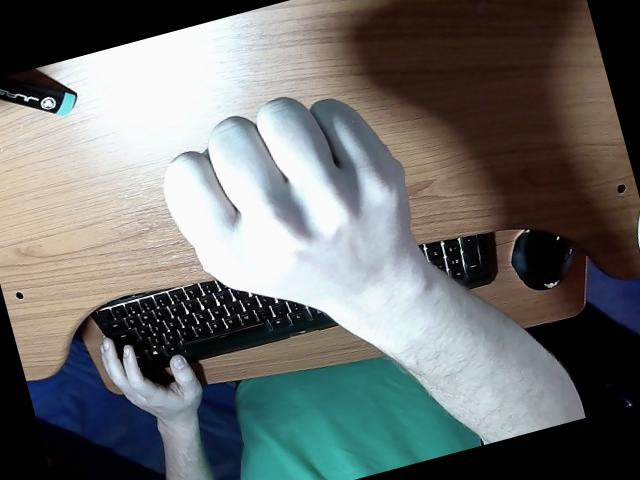rock: (164, 99, 433, 346)
